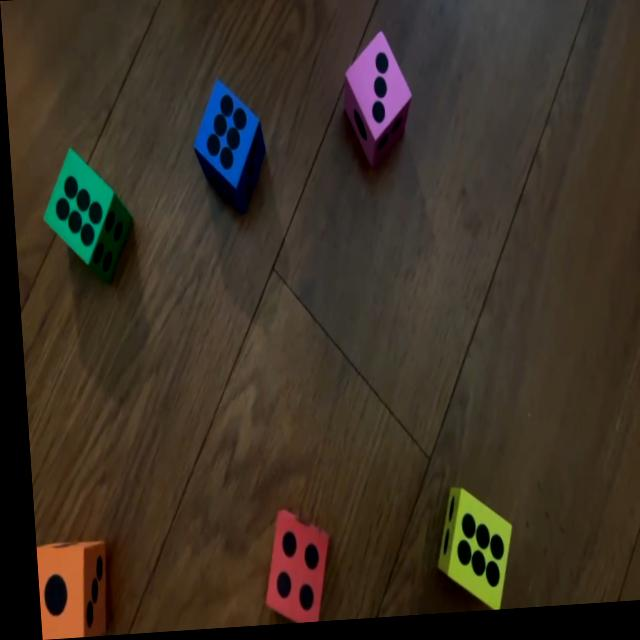cube: (36, 143, 129, 284), (186, 78, 262, 215), (253, 507, 326, 628)
